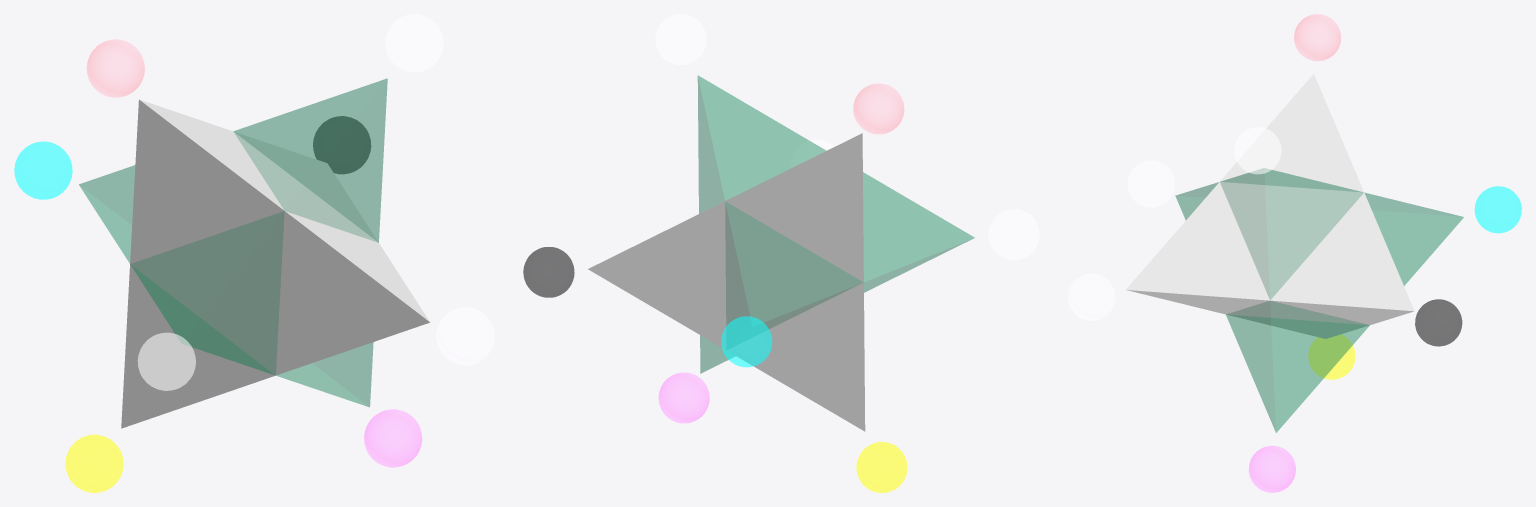
File: uiscene1.glb
The picture shows the model from 3 angles, left to right: view 1: azimuth 30°, elevation 25°; view 2: azimuth 150°, elevation 25°; view 3: azimuth 270°, elevation 25°; orthographic projection. The views are drawn at different scales.
Visible parts, largest first — view 1: Merkaba_Diamond, Merkaba_Emerald, Mentor, Oracle, Jester, Sentinel, Empath, Architect, Explorer, Witness; view 2: Merkaba_Diamond, Merkaba_Emerald, Mentor, Jester, Sentinel, Empath, Witness, Architect, Explorer, Oracle; view 3: Merkaba_Diamond, Merkaba_Emerald, Empath, Witness, Architect, Mentor, Oracle, Jester, Sentinel, Explorer.
Boxes of the visible parts, bbox=[...] form: Merkaba_Diamond: bbox=[121, 99, 429, 428]; Merkaba_Emerald: bbox=[79, 78, 387, 407]; Mentor: bbox=[14, 141, 72, 199]; Oracle: bbox=[436, 307, 494, 365]; Jester: bbox=[364, 409, 422, 467]; Sentinel: bbox=[86, 39, 144, 97]; Empath: bbox=[137, 332, 195, 390]; Architect: bbox=[385, 14, 443, 72]; Explorer: bbox=[65, 434, 123, 492]; Witness: bbox=[313, 116, 370, 173]; Merkaba_Diamond: bbox=[588, 133, 865, 431]; Merkaba_Emerald: bbox=[698, 75, 974, 373]; Mentor: bbox=[721, 316, 772, 367]; Jester: bbox=[658, 372, 709, 423]; Sentinel: bbox=[853, 83, 904, 134]; Empath: bbox=[988, 209, 1039, 259]; Witness: bbox=[523, 247, 574, 297]; Architect: bbox=[655, 14, 706, 64]; Explorer: bbox=[856, 442, 907, 492]; Oracle: bbox=[791, 139, 833, 167]; Merkaba_Diamond: bbox=[1126, 74, 1414, 338]; Merkaba_Emerald: bbox=[1175, 168, 1463, 432]; Empath: bbox=[1127, 160, 1174, 207]; Witness: bbox=[1415, 299, 1462, 346]; Architect: bbox=[1234, 127, 1281, 174]; Mentor: bbox=[1474, 186, 1521, 233]; Oracle: bbox=[1068, 273, 1115, 320]; Jester: bbox=[1248, 445, 1295, 492]; Sentinel: bbox=[1294, 14, 1341, 61]; Explorer: bbox=[1308, 334, 1355, 379].
Size of what is drawn, in the model's own units: 7.17 by 7.88 by 8.62.
